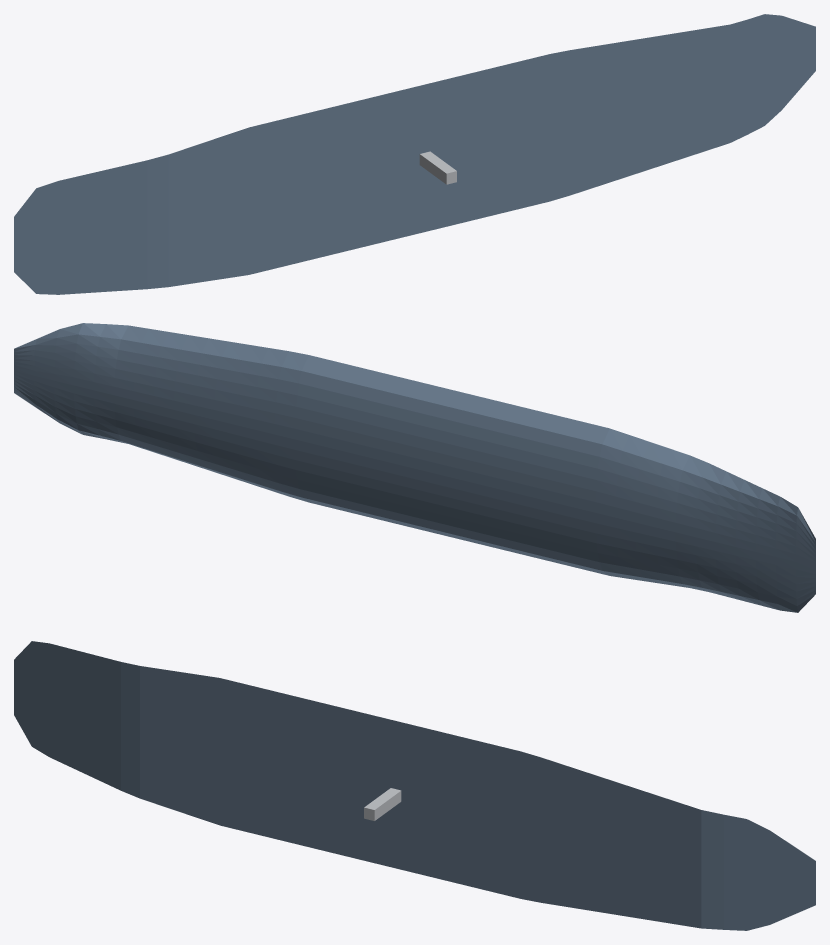
Rendered from partly-submerged-loft.glb.
3 views of the same model, one above another, from view 1: azimuth 30°, elevation 25°; view 2: azimuth 150°, elevation 25°; view 3: azimuth 330°, elevation 25° (orthographic).
Visible parts, largest first — view 1: partly-submerged; view 2: partly-submerged; view 3: partly-submerged.
Part boxes in pixels (bbox=[...]): partly-submerged: bbox=[14, 14, 815, 294]; partly-submerged: bbox=[14, 323, 815, 612]; partly-submerged: bbox=[14, 641, 815, 930].
Bounding box in the file's own units: 1.82 × 0.32 × 0.1622.
